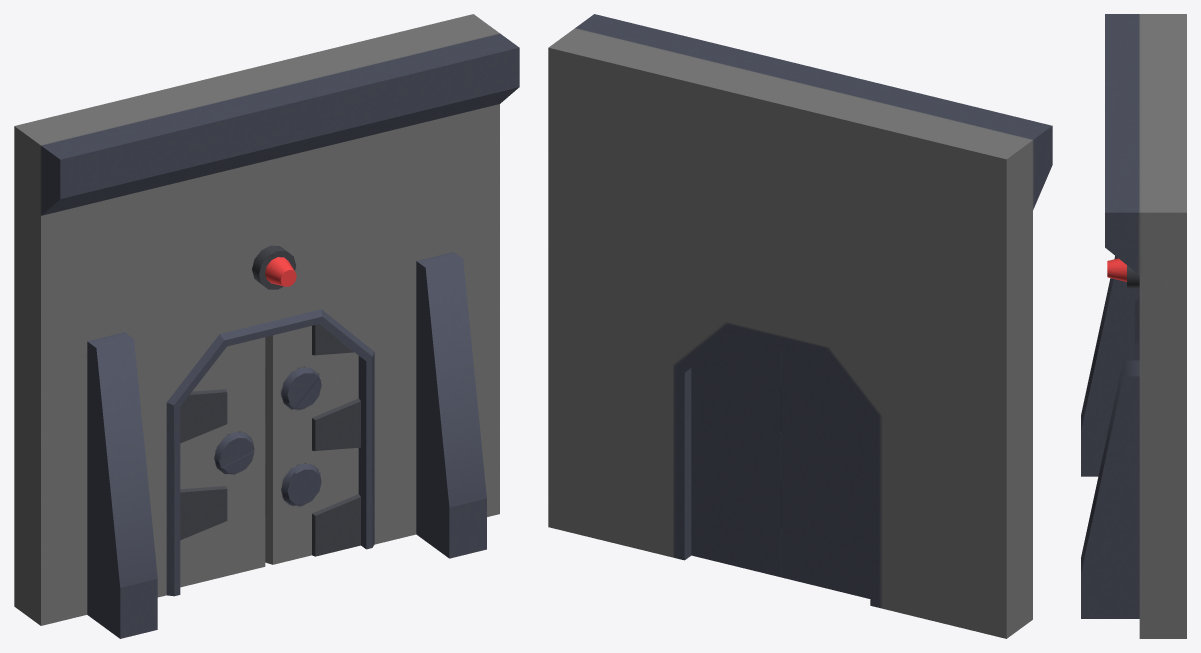
Rendered from Door.fbx.
The picture shows the model from 3 angles, left to right: view 1: azimuth 30°, elevation 25°; view 2: azimuth 150°, elevation 25°; view 3: azimuth 270°, elevation 25°; orthographic projection. The views are drawn at different scales.
Parts seen in each view (by area): view 1: Door; view 2: Door; view 3: Door.
Part boxes in pixels (x1,y1,x2,y2): Door: (14,14,519,638); Door: (548,14,1052,638); Door: (1081,14,1186,638).
Bounding box in the file's own units: 500 × 500 × 113.
1 material, 1 textured.
